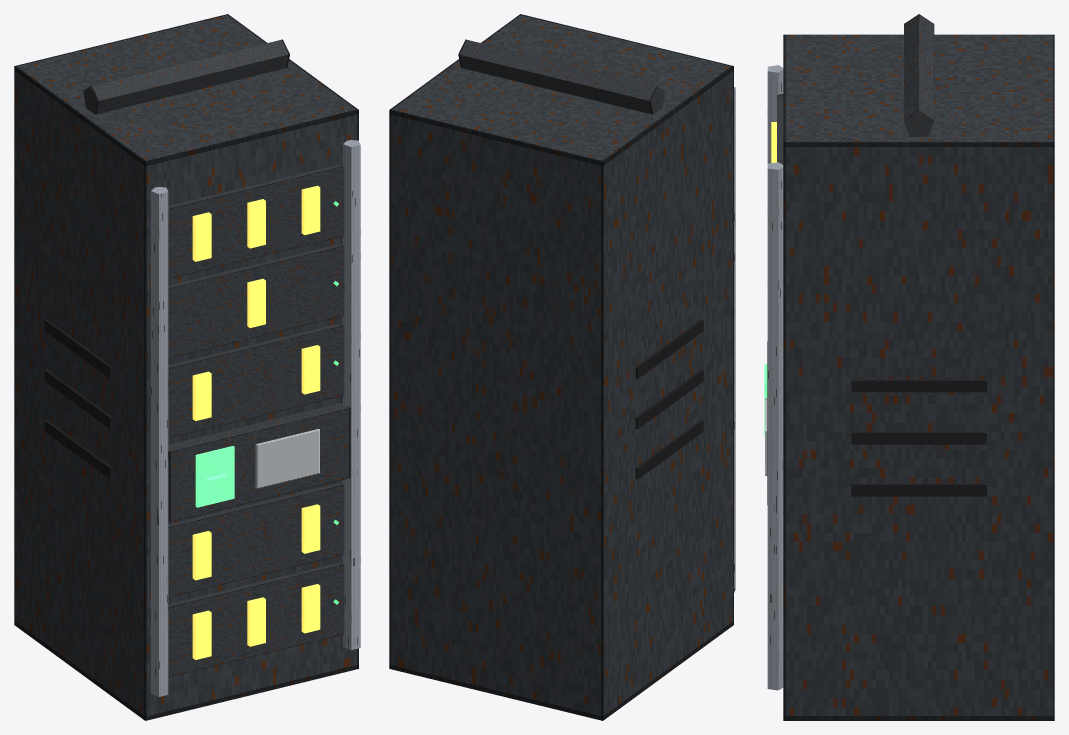
File: server_rack_command_bridge.glb
3 views of the same model, side by side, from view 1: azimuth 30°, elevation 25°; view 2: azimuth 150°, elevation 25°; view 3: azimuth 270°, elevation 25° (orthographic). The views are drawn at different scales.
Visible parts, largest first — view 1: server_rack_command_bridge; view 2: server_rack_command_bridge; view 3: server_rack_command_bridge.
Part boxes in pixels (x1=…): server_rack_command_bridge: x1=14, y1=14, x2=360, y2=720; server_rack_command_bridge: x1=389, y1=14, x2=735, y2=720; server_rack_command_bridge: x1=764, y1=14, x2=1054, y2=720.
Bounding box in the file's own units: 0.818 × 2.09 × 0.91.
Materials: 9 (9 with a texture image).
